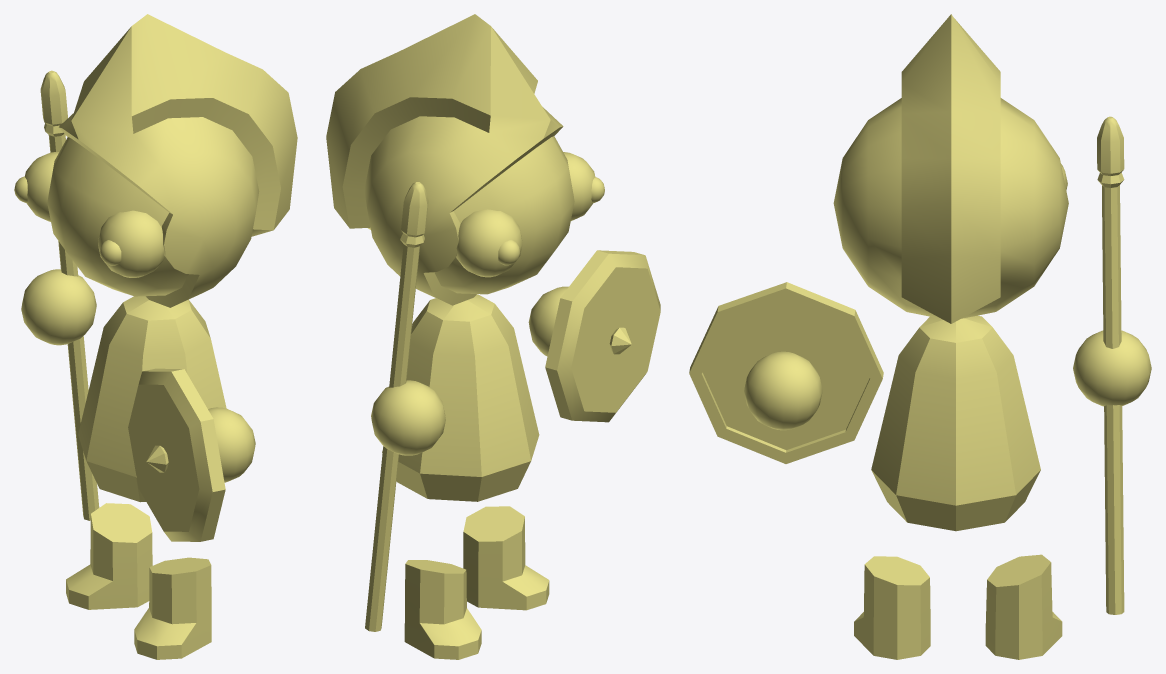
Rendered from Statue_003.fbx.
The picture shows the model from 3 angles, left to right: view 1: azimuth 30°, elevation 25°; view 2: azimuth 150°, elevation 25°; view 3: azimuth 270°, elevation 25°; orthographic projection. The views are drawn at different scales.
Parts seen in each view (by area): view 1: Cylinder.009; view 2: Cylinder.009; view 3: Cylinder.009.
Part boxes in pixels (x1=…): Cylinder.009: x1=14, y1=14, x2=297, y2=659; Cylinder.009: x1=326, y1=14, x2=660, y2=659; Cylinder.009: x1=689, y1=14, x2=1151, y2=659.
Bounding box in the file's own units: 658 × 1605 × 1071.
